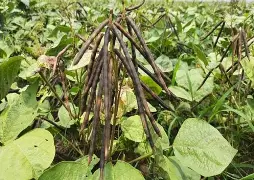crops: (0, 0, 250, 179), (143, 0, 247, 41), (208, 85, 254, 173), (1, 0, 68, 54), (68, 65, 89, 102)
